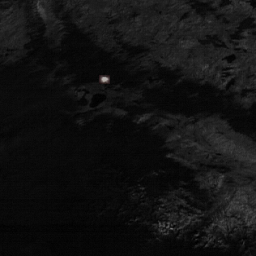Target: (100, 74, 110, 82)
